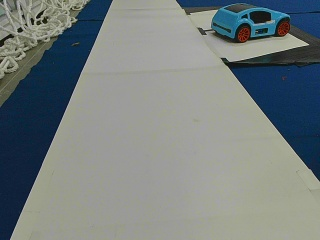car: (212, 5, 290, 41)
